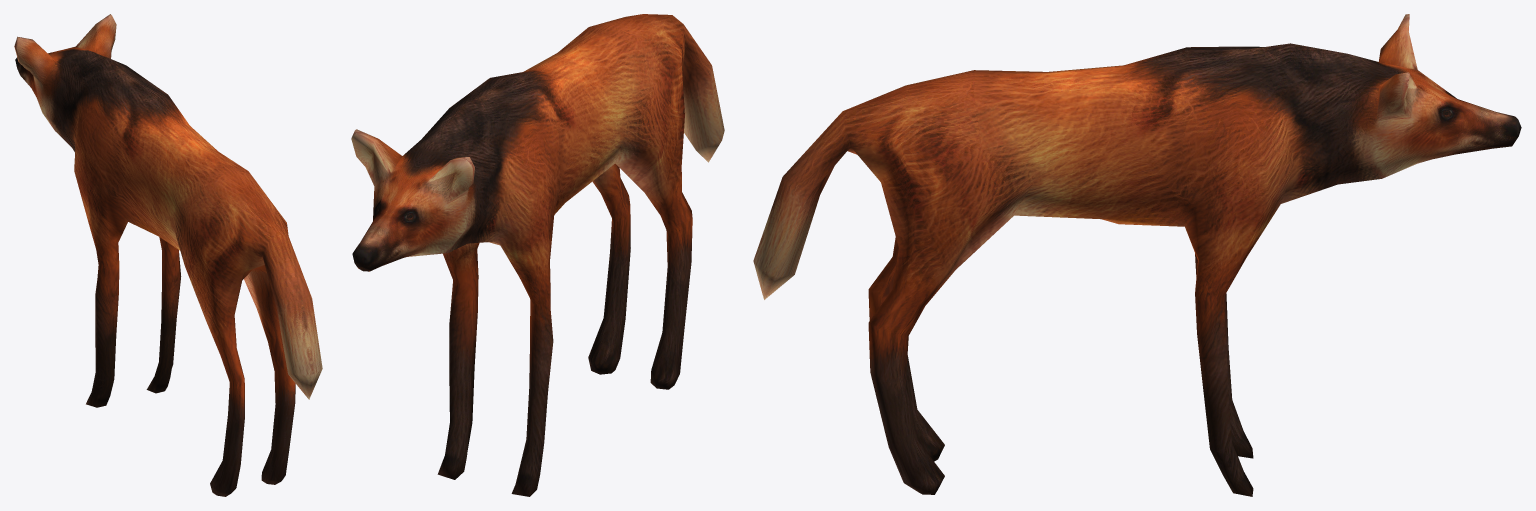
The model's file is maned_wolf.DAE.
3 renders of one model, left to right at view 1: azimuth 30°, elevation 25°; view 2: azimuth 150°, elevation 25°; view 3: azimuth 270°, elevation 25°, orthographic. The views are drawn at different scales.
Visible parts, largest first — view 1: Group1; view 2: Group1; view 3: Group1.
Part boxes in pixels (x1,y1,x2,y2): Group1: (14, 14, 322, 496); Group1: (351, 14, 724, 496); Group1: (753, 14, 1521, 496).
Bounding box in the file's own units: 0.3924 × 1.98 × 1.23.
